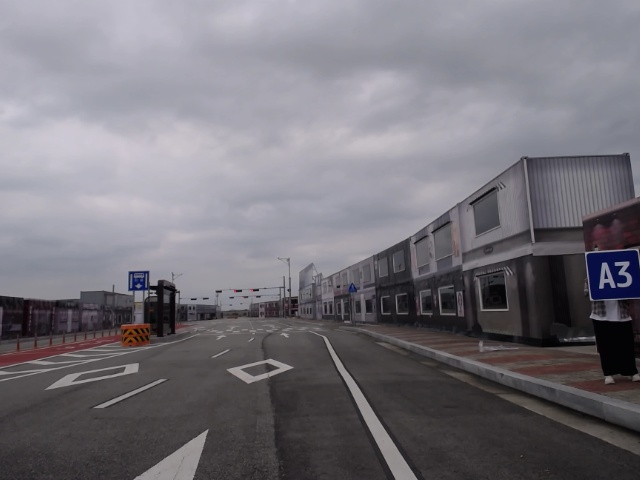delivery_a3: (585, 250, 639, 301)
